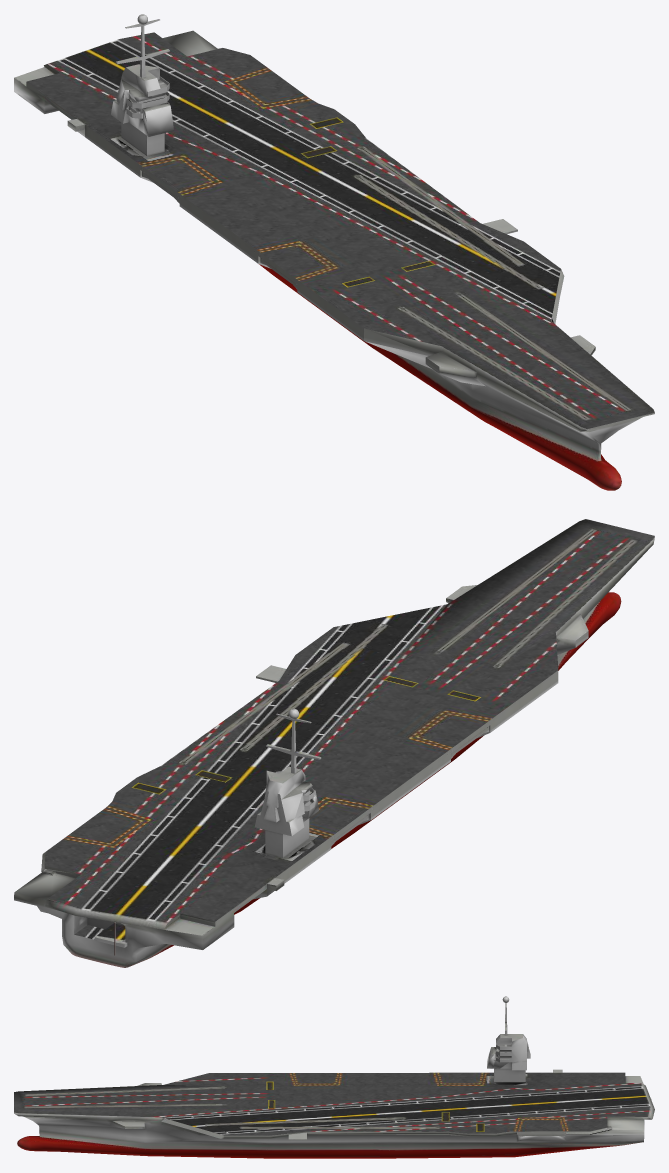
The model's file is realistic-by.b0221350601e.carrier.glb.
3 views of the same model, one above another, from view 1: azimuth 30°, elevation 25°; view 2: azimuth 150°, elevation 25°; view 3: azimuth 270°, elevation 25° (orthographic). The views are drawn at different scales.
Visible parts, largest first — view 1: carrier; view 2: carrier; view 3: carrier.
Boxes of the visible parts, <box> form: carrier: <box>14,14,654,490</box>; carrier: <box>14,519,654,967</box>; carrier: <box>14,996,654,1158</box>.
Size of the model in its own units: 84.13 by 74.79 by 333.
Materials: 2 (2 with a texture image).
